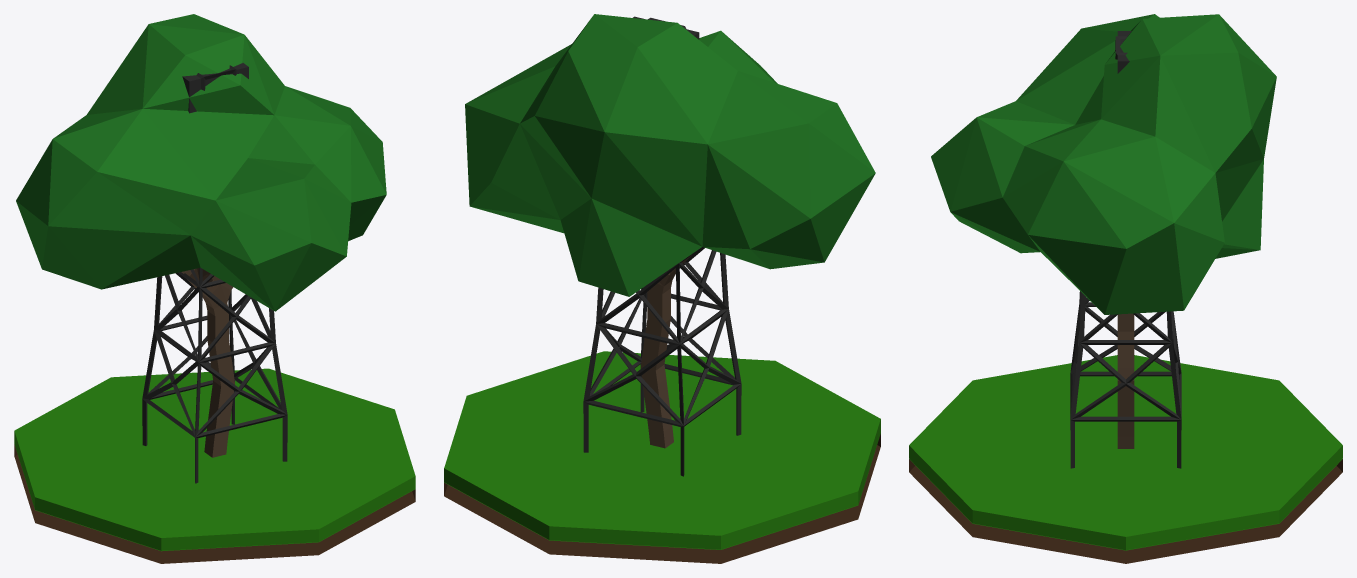
The model's file is ZipLine_Top.fbx.
3 views of the same model, side by side, from view 1: azimuth 30°, elevation 25°; view 2: azimuth 150°, elevation 25°; view 3: azimuth 270°, elevation 25° (orthographic). The views are drawn at different scales.
Parts seen in each view (by area): view 1: Mball.008, Circle, Cube, Vert; view 2: Mball.008, Circle, Cube, Vert; view 3: Mball.008, Circle, Cube, Vert.
Part boxes in pixels (left/top/right/bottom): Mball.008: left=16, top=14, right=386, bottom=311; Circle: left=14, top=368, right=415, bottom=563; Cube: left=142, top=63, right=287, bottom=483; Vert: left=181, top=268, right=234, bottom=457; Mball.008: left=465, top=14, right=875, bottom=296; Circle: left=444, top=351, right=880, bottom=563; Cube: left=583, top=16, right=741, bottom=476; Vert: left=640, top=255, right=691, bottom=448; Mball.008: left=931, top=14, right=1276, bottom=314; Circle: left=909, top=355, right=1342, bottom=563; Cube: left=1070, top=31, right=1181, bottom=468; Vert: left=1117, top=313, right=1134, bottom=448.
Size of the model in its own units: 812 by 967 by 809.
